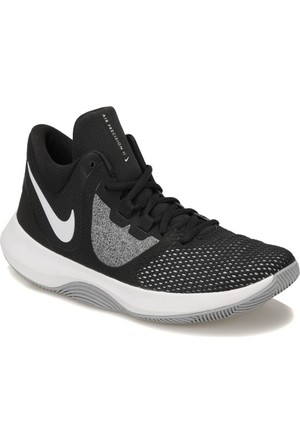nike: (26, 164, 80, 246)
